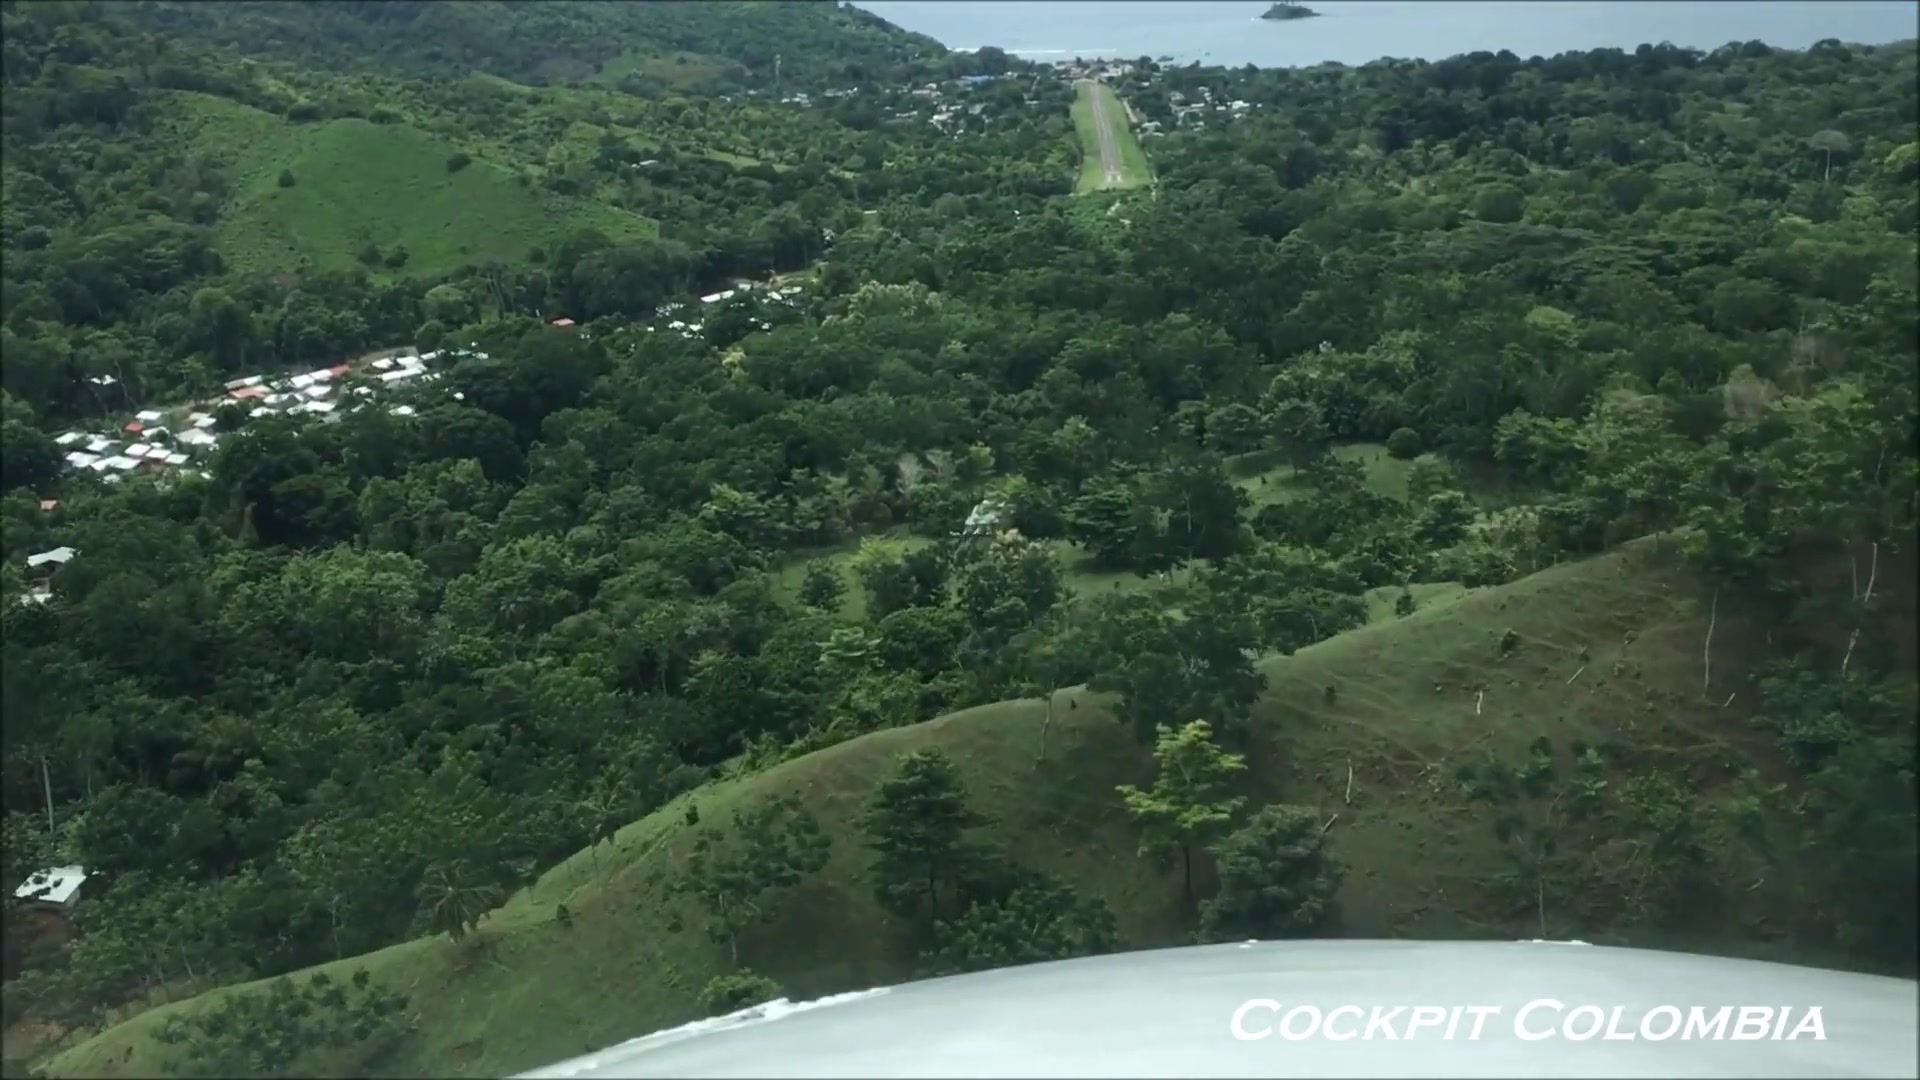runway: (1088, 87, 1127, 186)
